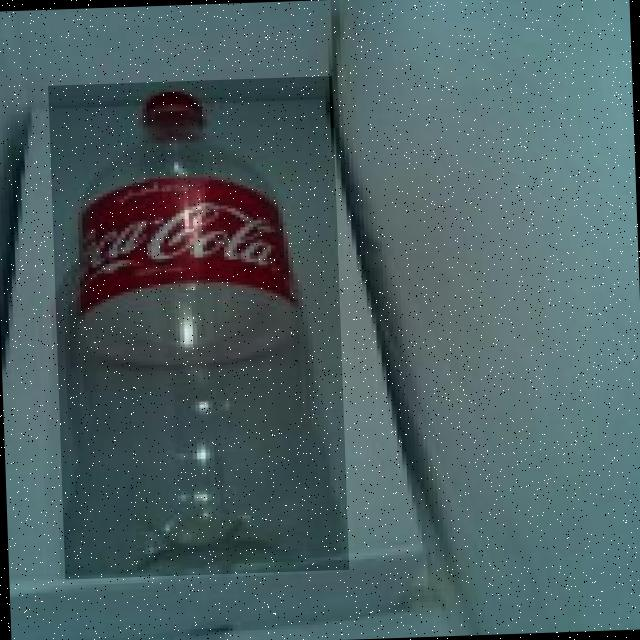bottle: (48, 76, 348, 580)
cap: (137, 88, 208, 130)
label: (62, 190, 300, 318)
